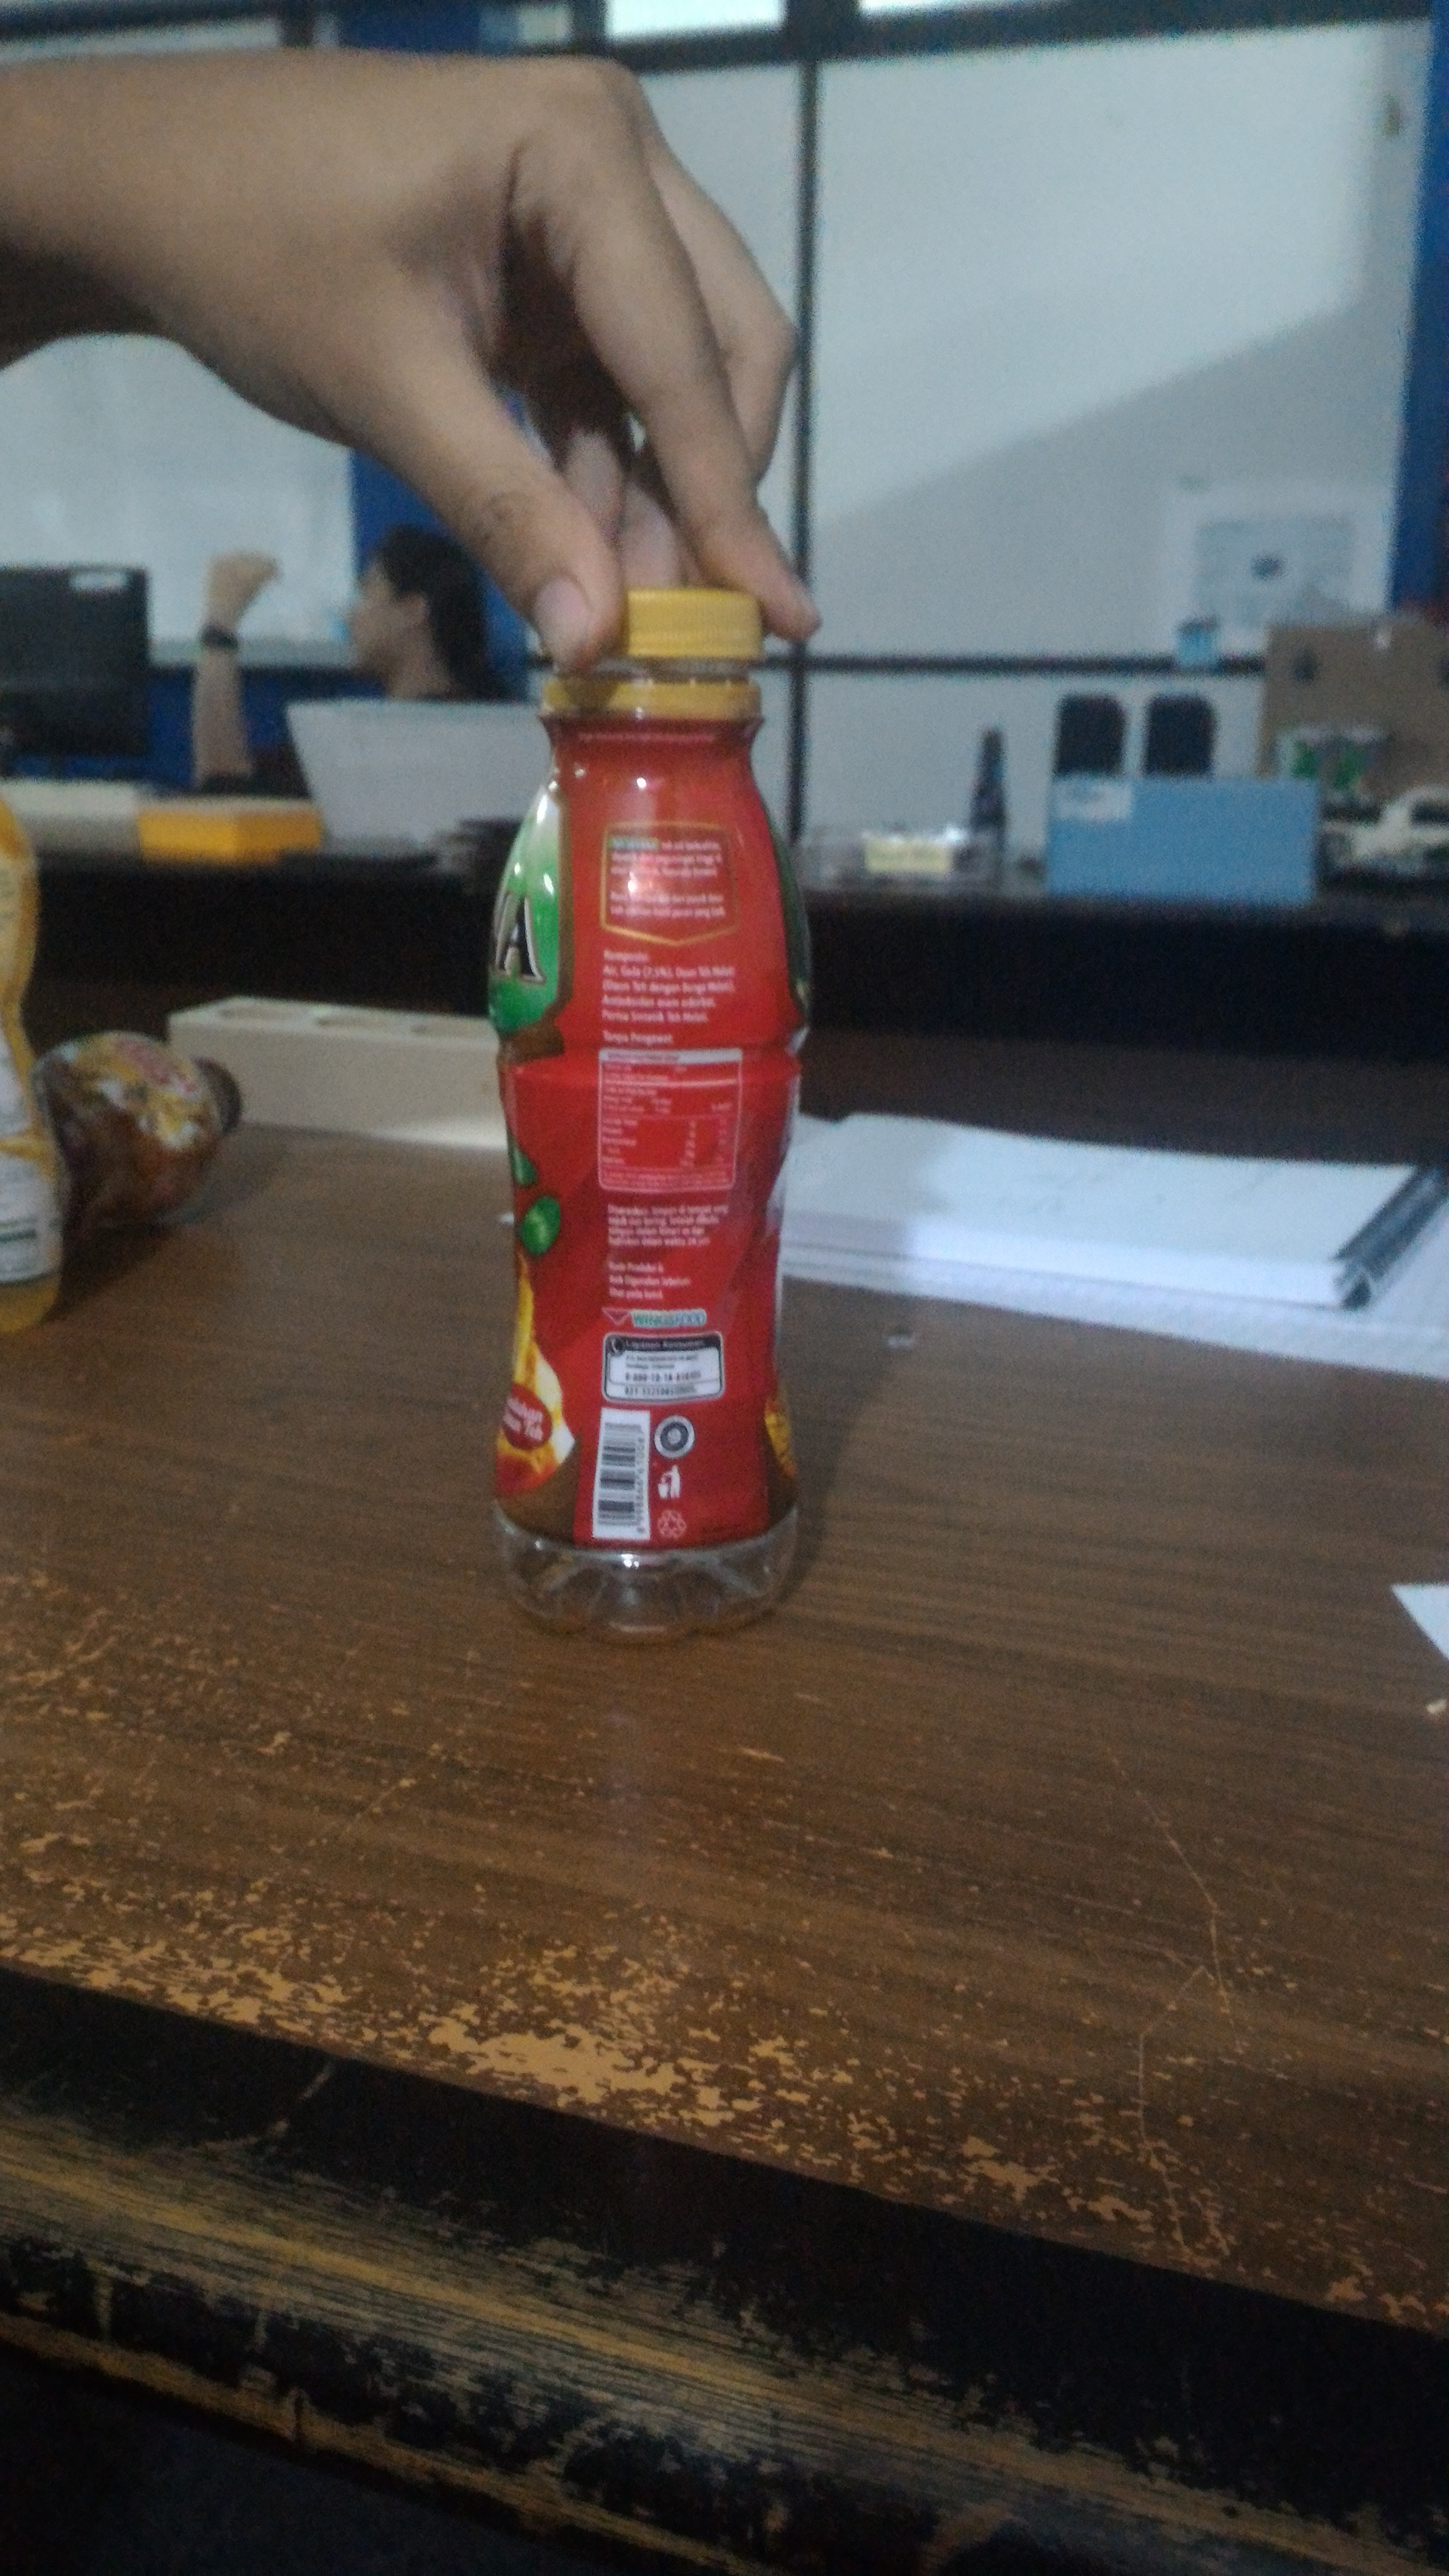botol: (467, 534, 817, 1637)
